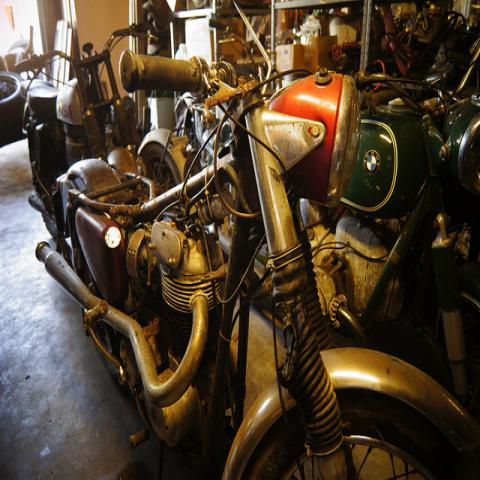motorcycle: (37, 55, 478, 474), (302, 38, 480, 425), (14, 27, 143, 240)
